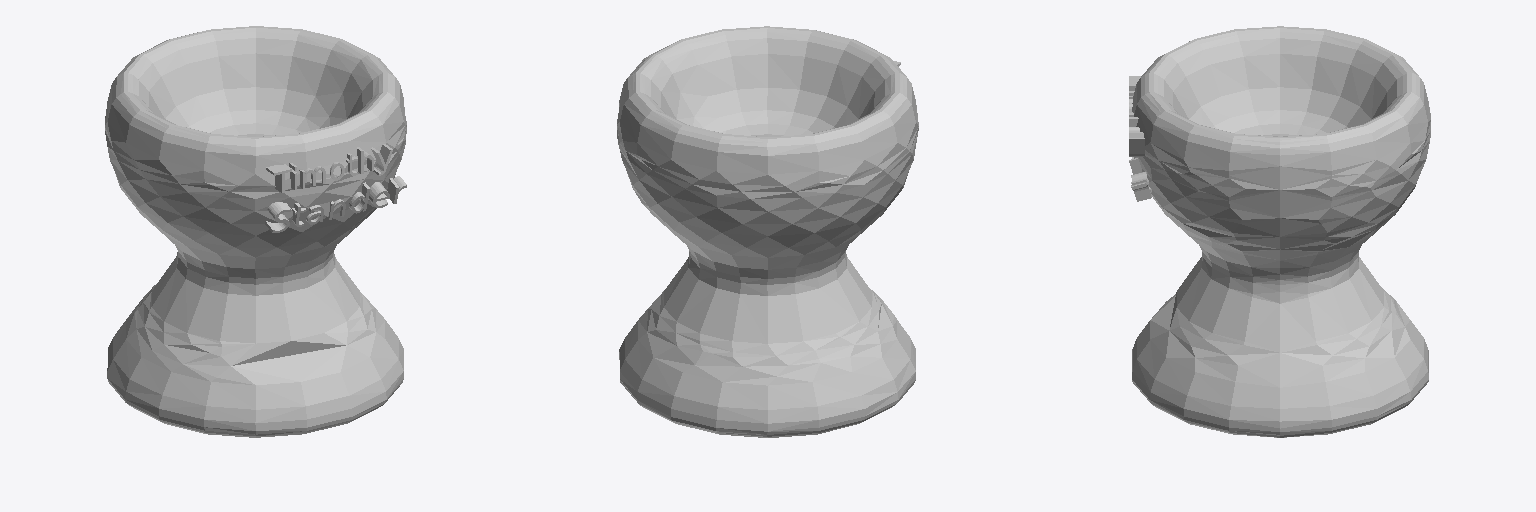
Rendered from Trophy.obj.
3 renders of one model, left to right at view 1: azimuth 30°, elevation 25°; view 2: azimuth 150°, elevation 25°; view 3: azimuth 270°, elevation 25°, orthographic.
Parts seen in each view (by area): view 1: Object0, Object2, Object1; view 2: Object0; view 3: Object0, Object1, Object2.
Boxes of the visible parts, box(x1,y1,x2,y2) form: Object0: box(105, 26, 406, 437); Object2: box(265, 176, 406, 232); Object1: box(266, 144, 392, 192); Object0: box(617, 26, 918, 437); Object0: box(1132, 26, 1430, 437); Object1: box(1129, 76, 1144, 156); Object2: box(1129, 157, 1151, 201).
Size of the model in its own units: 29.21 by 37.02 by 29.29.